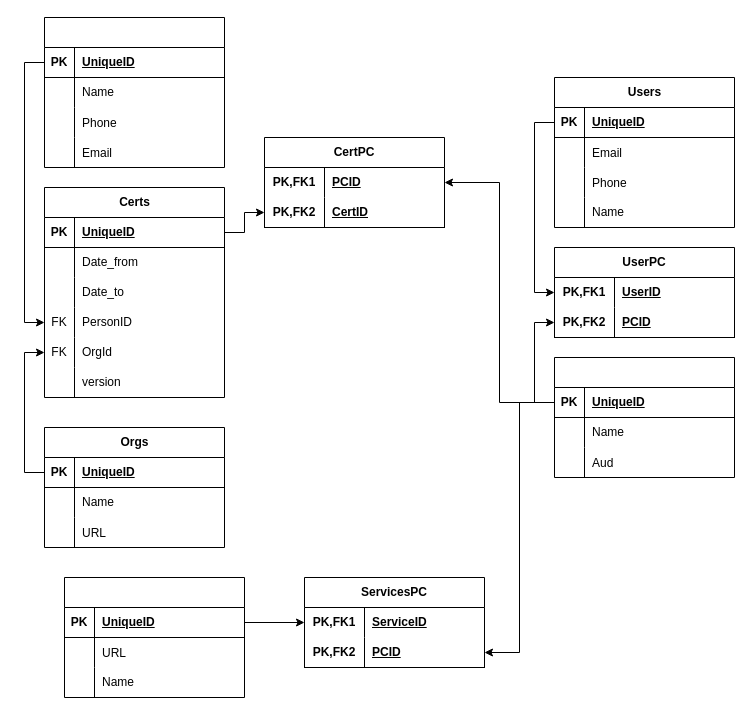
This 752x715 diagram has some shape labels left out. Here are the shapes that lost their labels. From the top down, the box of each, then its label:
(44, 16, 224, 168): Persons
(554, 356, 734, 478): PCs
(64, 576, 244, 698): Services
